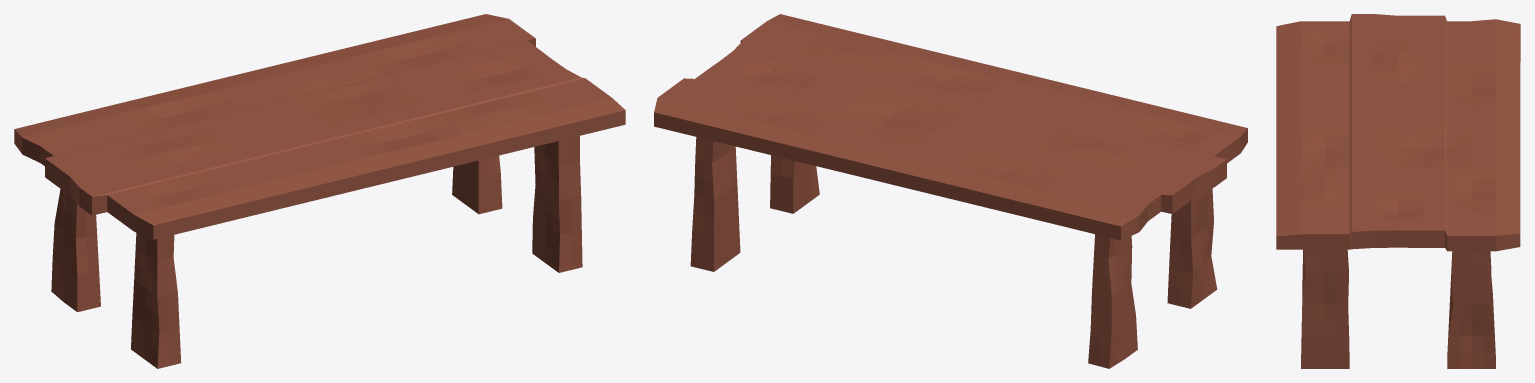
Rendered from table.glb.
The picture shows the model from 3 angles, left to right: view 1: azimuth 30°, elevation 25°; view 2: azimuth 150°, elevation 25°; view 3: azimuth 270°, elevation 25°; orthographic projection. The views are drawn at different scales.
Visible parts, largest first — view 1: Cube; view 2: Cube; view 3: Cube.
Boxes of the visible parts, x1,y1,x2,y2 form: Cube: (14,14,625,368); Cube: (654,14,1247,368); Cube: (1276,14,1520,368).
Size of the model in its own units: 10.47 by 3.34 by 4.88.
1 material, 1 textured.
